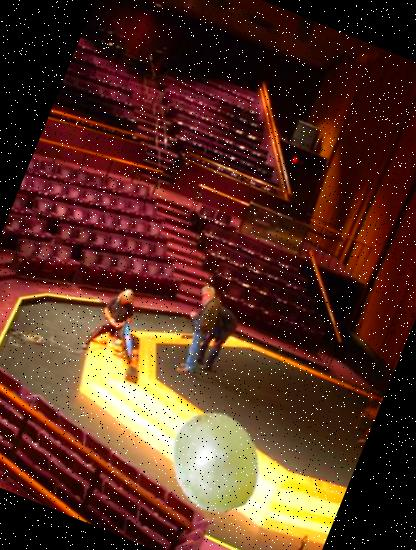Grape: (149, 394, 282, 528)
